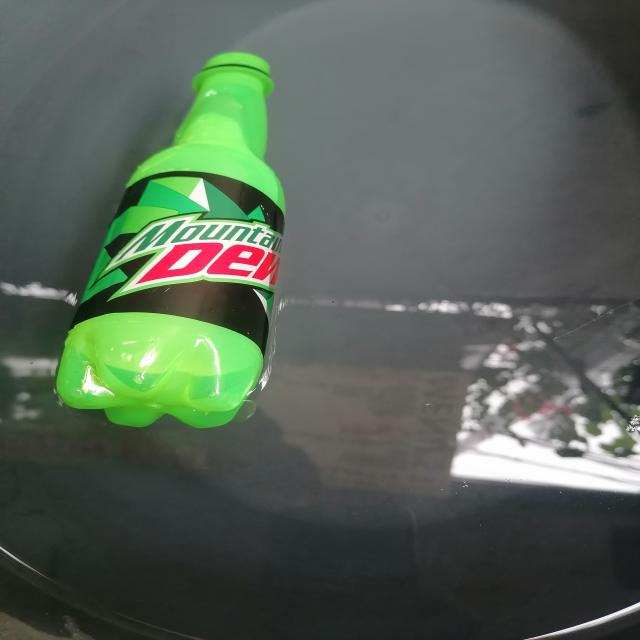Plastic Bottle: (56, 53, 285, 428)
